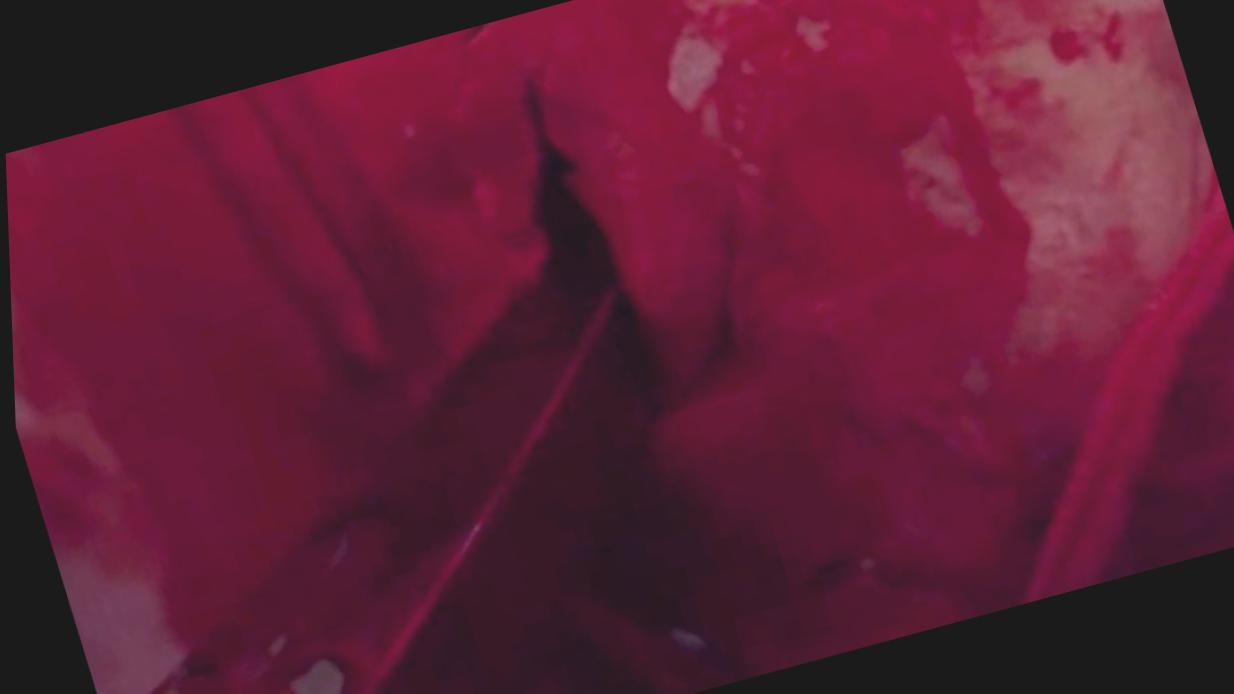Fire: (4, 0, 1234, 694)
